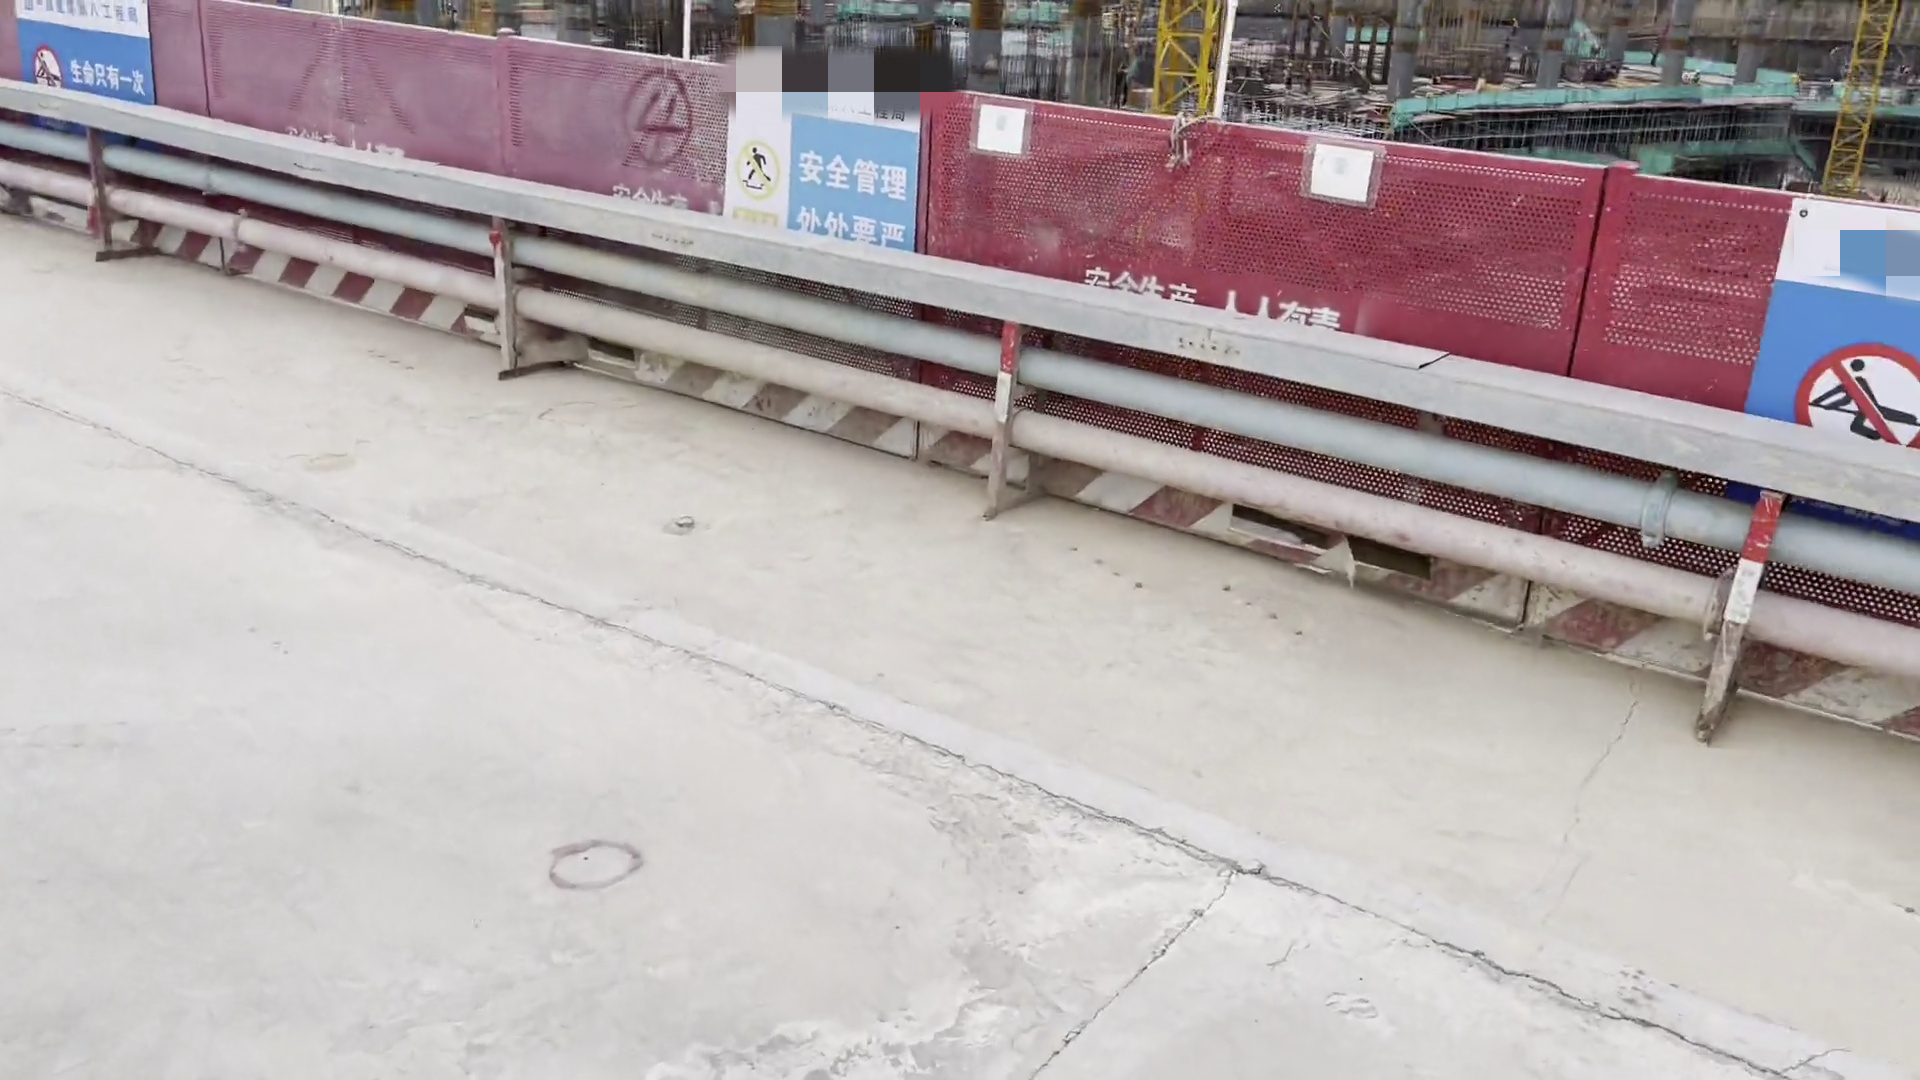fence: (952, 76, 1920, 473), (3, 1, 957, 257)
slogan: (711, 82, 944, 287), (1749, 181, 1920, 456), (3, 1, 193, 127), (1294, 131, 1394, 215), (968, 88, 1035, 165)
